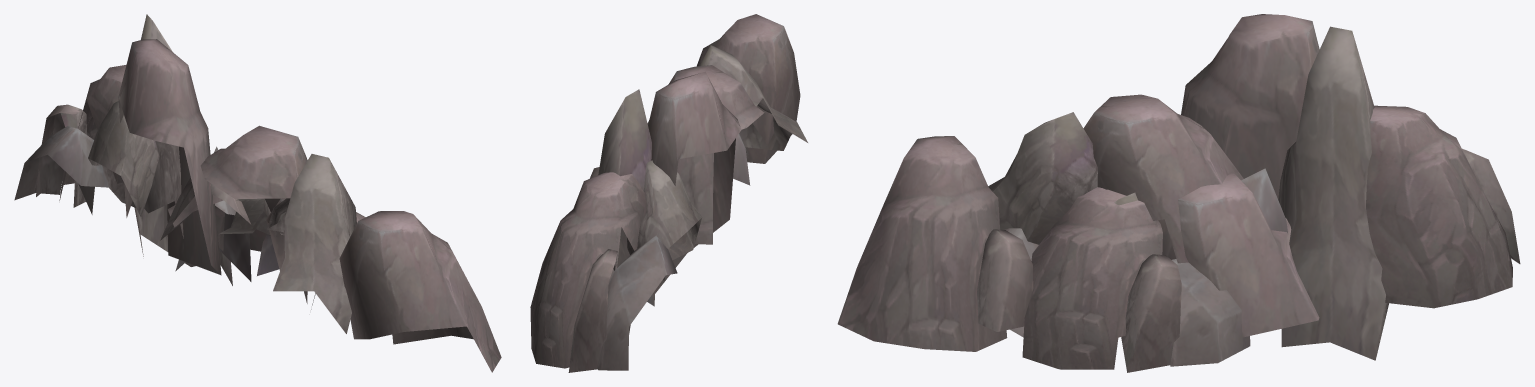
File: area_08_7.FBX
The picture shows the model from 3 angles, left to right: view 1: azimuth 30°, elevation 25°; view 2: azimuth 150°, elevation 25°; view 3: azimuth 270°, elevation 25°; orthographic projection. The views are drawn at different scales.
Parts seen in each view (by area): view 1: area_08_7; view 2: area_08_7; view 3: area_08_7.
Part boxes in pixels (box(x1,y1,x2,y2)): area_08_7: box(14, 14, 501, 372); area_08_7: box(530, 14, 807, 372); area_08_7: box(837, 14, 1520, 372).
Size of the model in its own units: 21.4 by 26.25 by 53.69.
